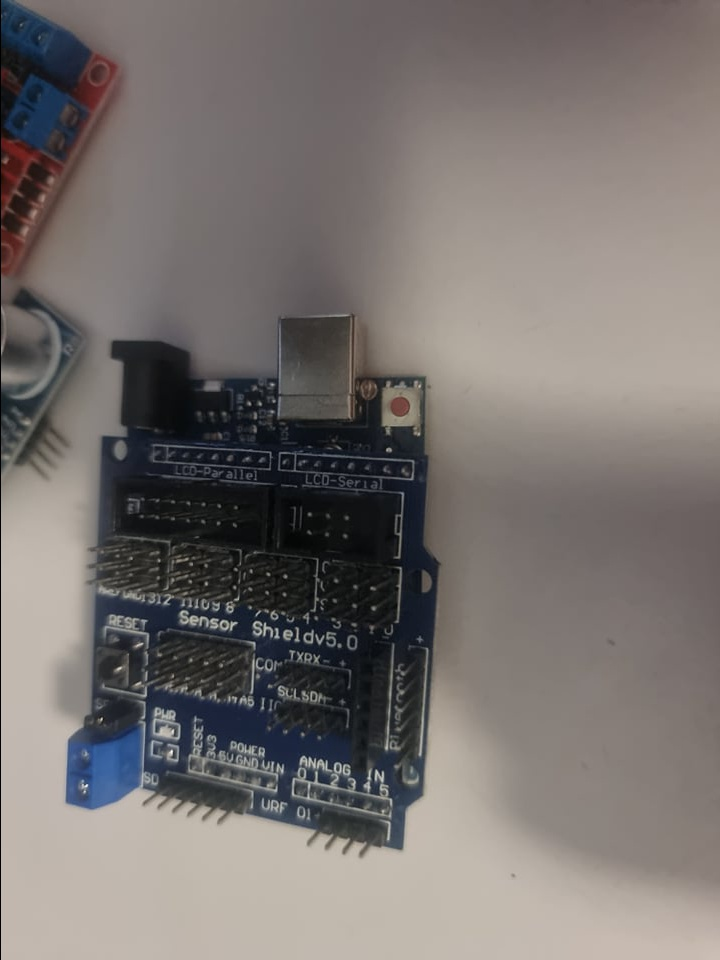UNO R3: (52, 291, 437, 860)
